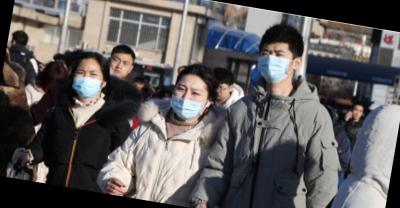with_mask: (168, 80, 211, 124), (255, 42, 298, 85), (68, 65, 107, 103)
without_mask: (108, 54, 133, 79), (215, 82, 232, 102), (354, 105, 366, 121)
